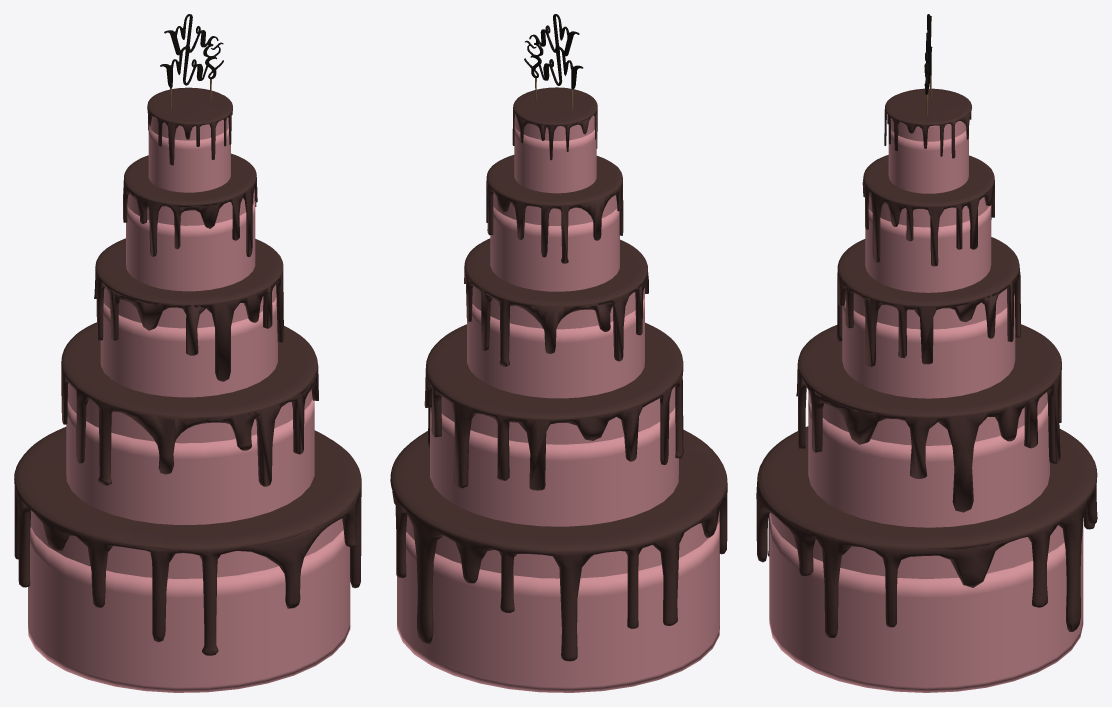
Rendered from 5-tier-blush-ganache-mrms.glb.
The picture shows the model from 3 angles, left to right: view 1: azimuth 30°, elevation 25°; view 2: azimuth 150°, elevation 25°; view 3: azimuth 270°, elevation 25°; orthographic projection.
Parts seen in each view (by area): view 1: 3.004, tHE ICING.014, 3.003, tHE ICING.012, 3.002, tHE ICING.011, 2.001, tHE ICING.010, 1.001, tHE ICING.013, mrms.002; view 2: 3.004, tHE ICING.014, 3.003, tHE ICING.012, 3.002, 2.001, tHE ICING.011, tHE ICING.010, 1.001, tHE ICING.013, mrms.002; view 3: 3.004, tHE ICING.014, 3.003, tHE ICING.012, 3.002, tHE ICING.011, 2.001, tHE ICING.010, 1.001, tHE ICING.013, mrms.002.
Part boxes in pixels (x1=…): 3.004: x1=28, y1=510, x2=350, y2=692; tHE ICING.014: x1=14, y1=427, x2=361, y2=655; 3.003: x1=66, y1=382, x2=314, y2=524; tHE ICING.012: x1=61, y1=322, x2=318, y2=486; 3.002: x1=100, y1=285, x2=277, y2=397; tHE ICING.011: x1=94, y1=238, x2=284, y2=381; 2.001: x1=126, y1=188, x2=255, y2=291; tHE ICING.010: x1=123, y1=153, x2=257, y2=256; 1.001: x1=148, y1=116, x2=230, y2=192; tHE ICING.013: x1=147, y1=87, x2=232, y2=165; mrms.002: x1=160, y1=14, x2=223, y2=108; 3.004: x1=397, y1=510, x2=719, y2=692; tHE ICING.014: x1=390, y1=429, x2=727, y2=661; 3.003: x1=430, y1=386, x2=678, y2=526; tHE ICING.012: x1=424, y1=322, x2=683, y2=490; 3.002: x1=467, y1=286, x2=644, y2=398; 2.001: x1=490, y1=192, x2=619, y2=291; tHE ICING.011: x1=464, y1=238, x2=648, y2=366; tHE ICING.010: x1=486, y1=155, x2=623, y2=263; 1.001: x1=514, y1=114, x2=596, y2=193; tHE ICING.013: x1=512, y1=87, x2=597, y2=160; mrms.002: x1=524, y1=14, x2=583, y2=110; 3.004: x1=769, y1=512, x2=1083, y2=692; tHE ICING.014: x1=756, y1=426, x2=1097, y2=637; 3.003: x1=808, y1=390, x2=1049, y2=527; tHE ICING.012: x1=796, y1=324, x2=1061, y2=512; 3.002: x1=842, y1=289, x2=1015, y2=398; tHE ICING.011: x1=837, y1=237, x2=1021, y2=366; 2.001: x1=865, y1=195, x2=991, y2=292; tHE ICING.010: x1=862, y1=155, x2=994, y2=266; 1.001: x1=888, y1=118, x2=968, y2=193; tHE ICING.013: x1=884, y1=88, x2=971, y2=158; mrms.002: x1=924, y1=14, x2=932, y2=115.
Bounding box in the file's own units: 6.02 × 11.87 × 6.02.
